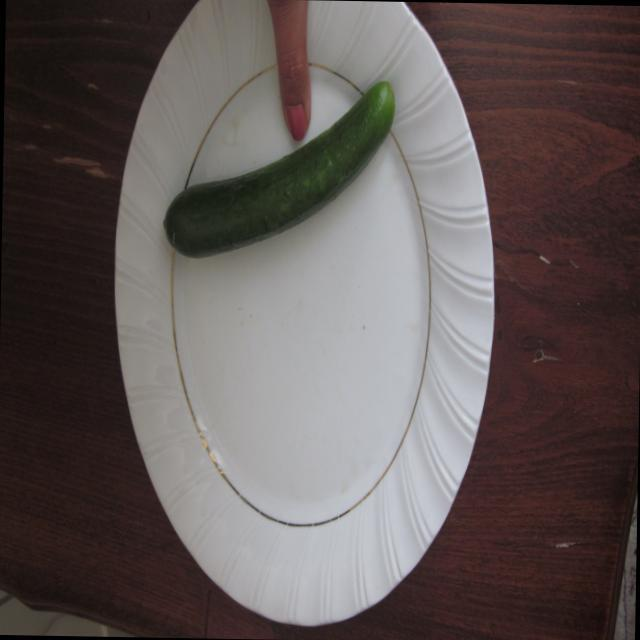Cucumber: (156, 72, 400, 269)
Finger: (261, 0, 315, 143)
